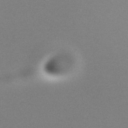normal: (1, 65, 38, 90)
